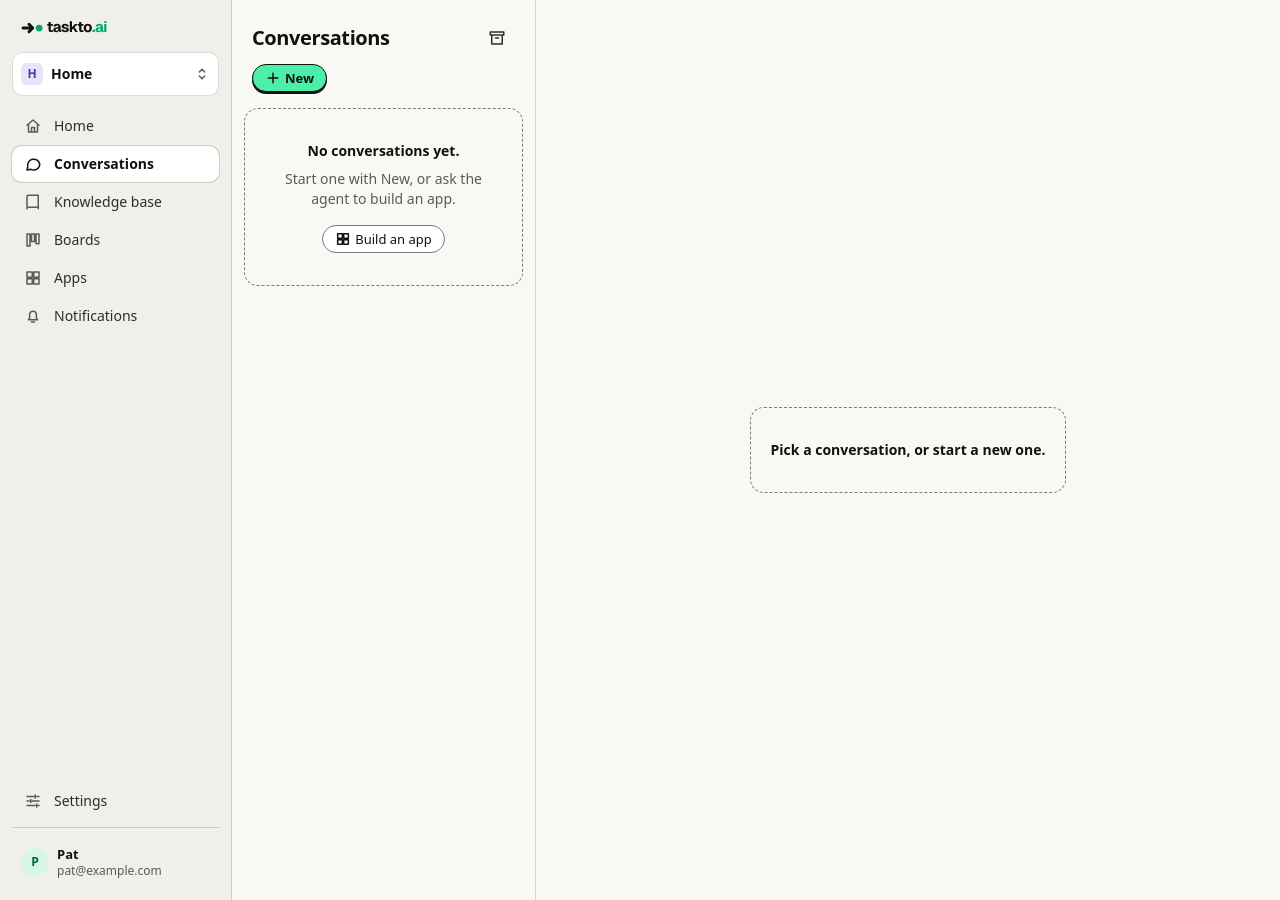
Test: …and when the server says the session is another account’s, nobody is signed out here
What coordinates should you click on to do the following:
click the button named "Account: "
I would click on:
 (116, 862)
Its box is x1=12 y1=836 x2=219 y2=888.
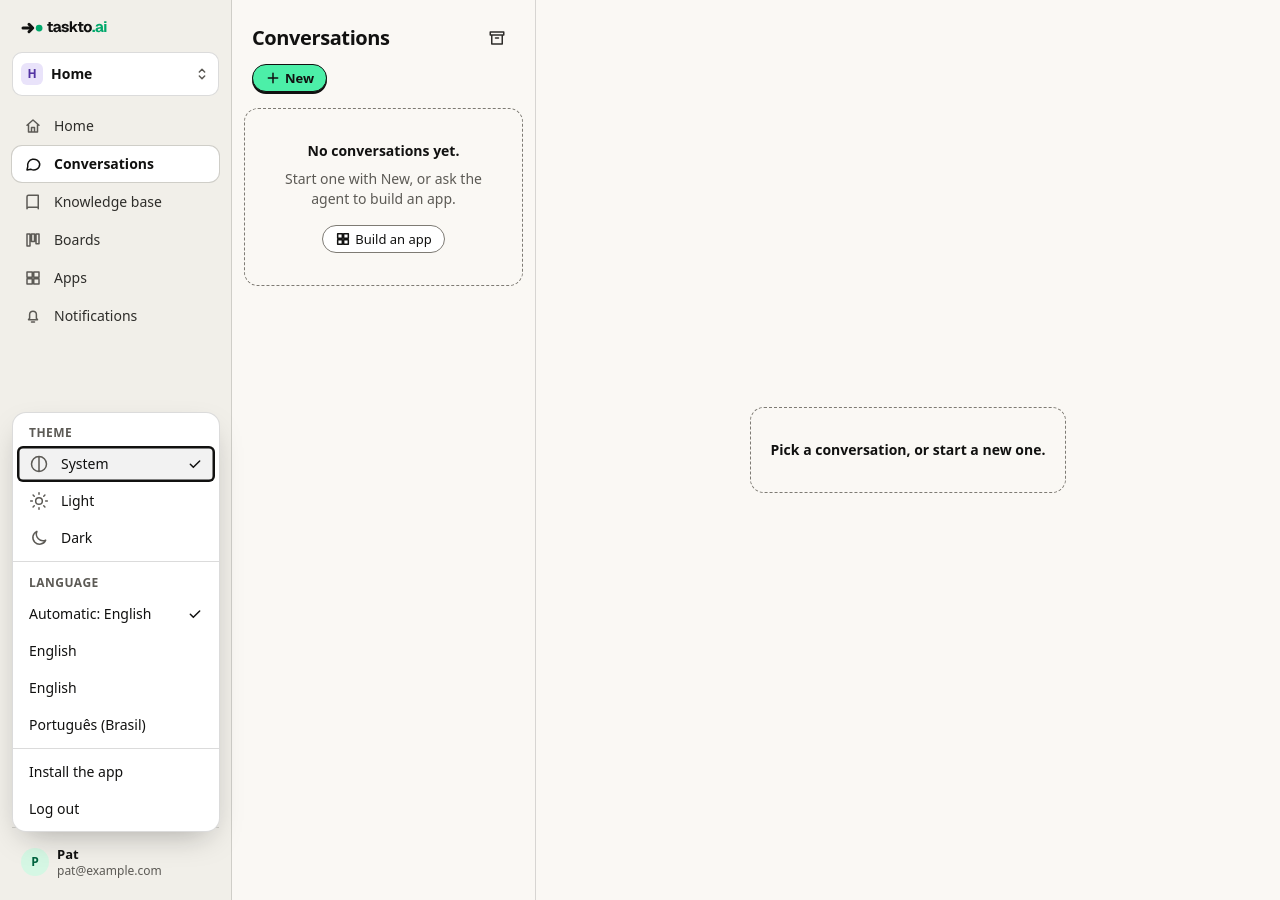
What coordinates should you click on to do the following:
click the menu item "Log out"
I would click on:
 (116, 809)
Its box is x1=17 y1=791 x2=215 y2=827.
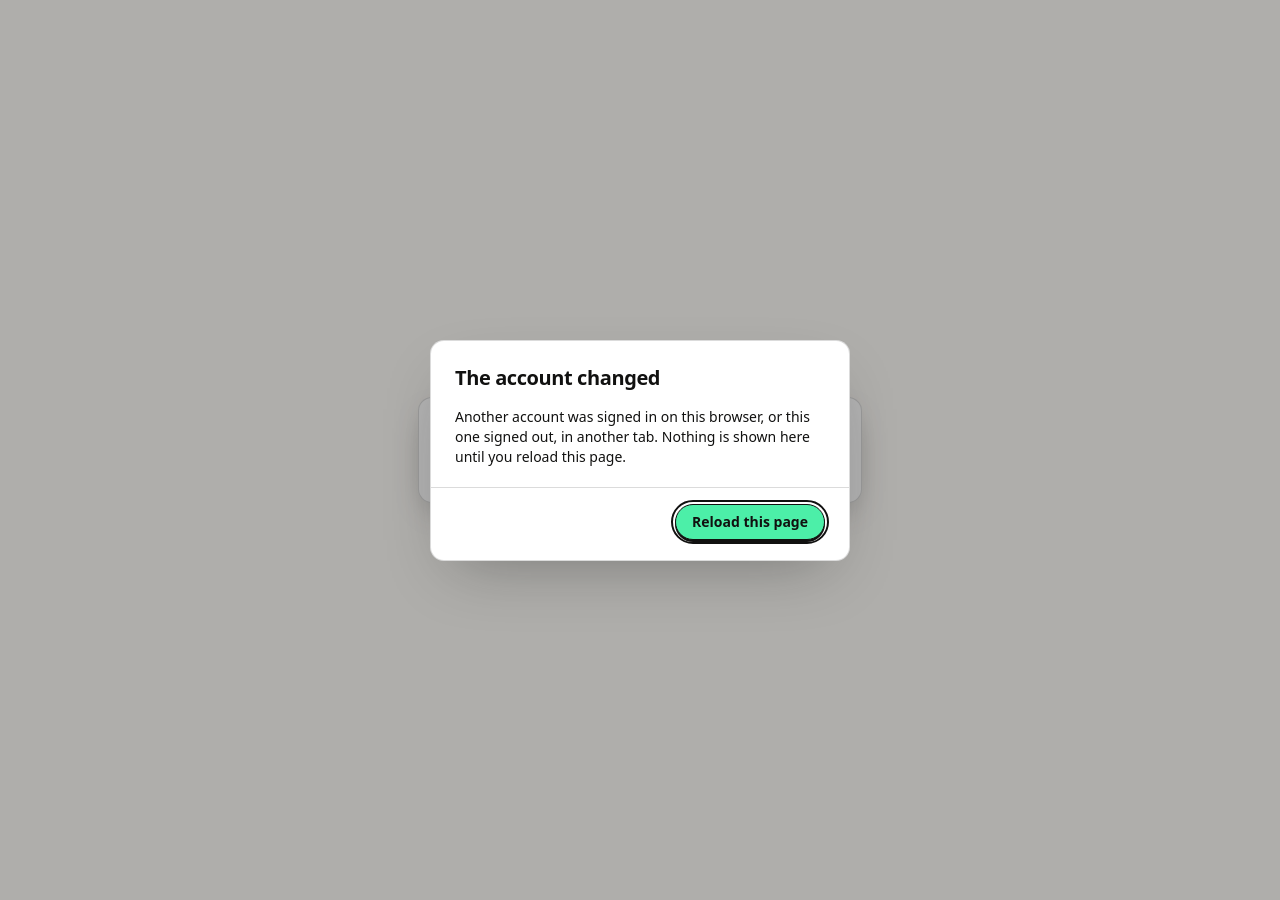
Result: the dialog is shown at x1=430 y1=340 x2=850 y2=560
